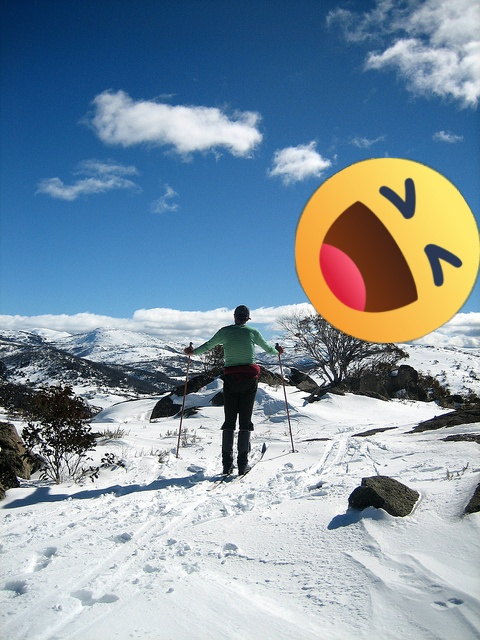haha: (295, 158, 480, 343)
